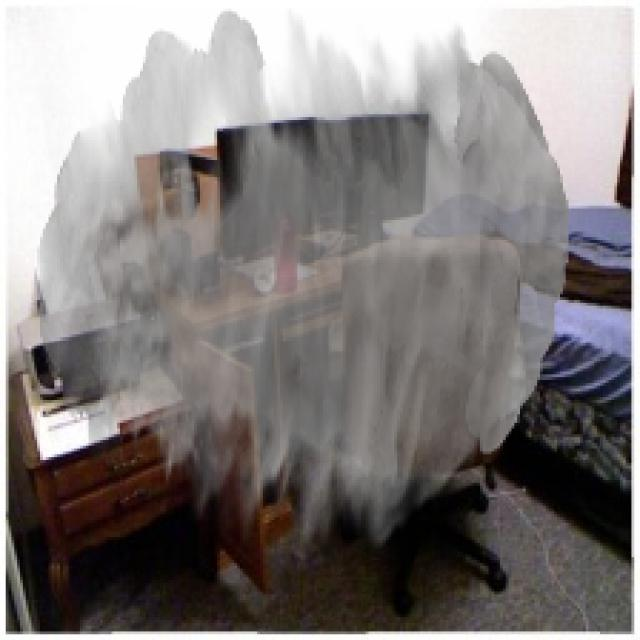smoke: (37, 9, 569, 554)
